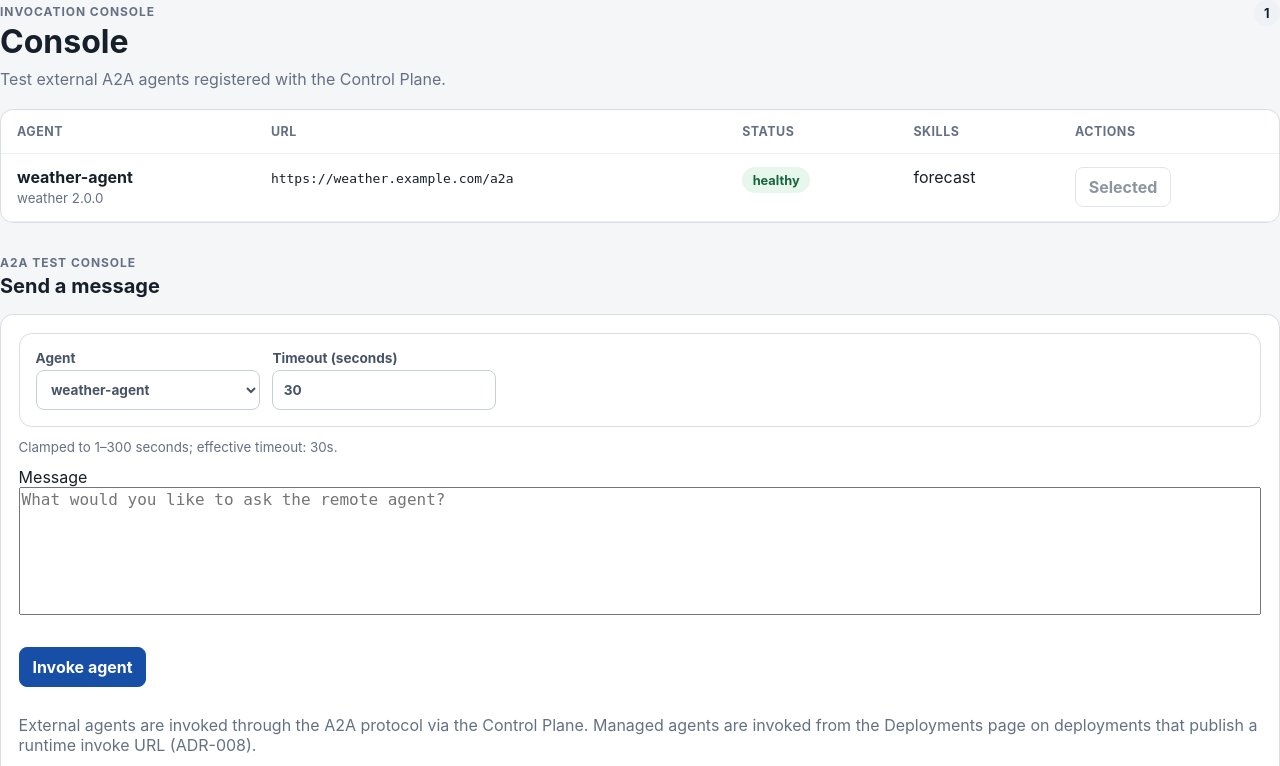
Test case: InvocationPage › blocks invocation without a message
This screenshot has width=1280, height=766.
Step 1. Click the button "Invoke agent" → click(83, 667), box x1=19 y1=647 x2=146 y2=687
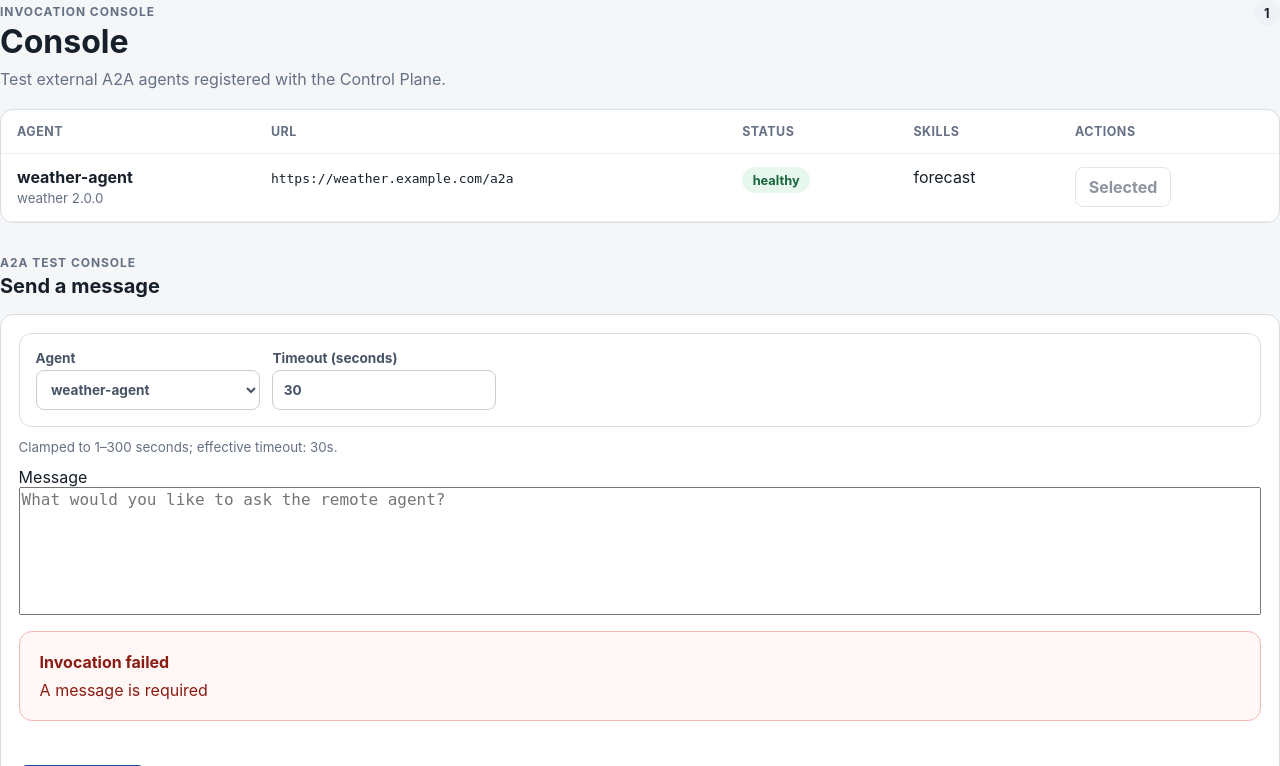
Now the text "A message is required" is shown, box x1=40 y1=680 x2=208 y2=700
